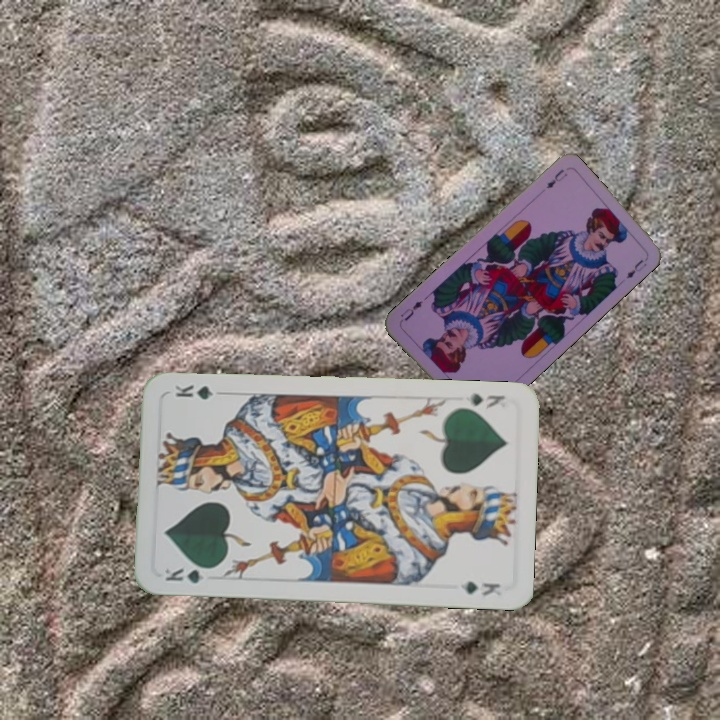EU: (542, 165, 570, 191)
GK: (160, 564, 218, 586), (466, 389, 508, 412)
